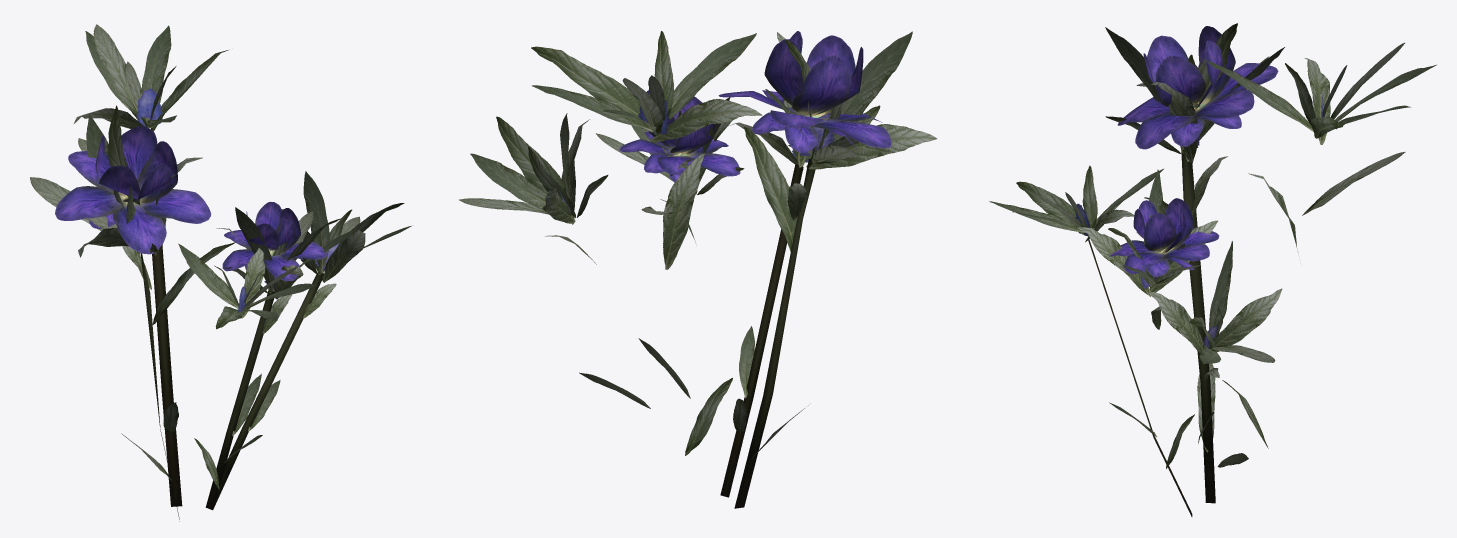
File: leafplant12_lod1.fbx
3 views of the same model, side by side, from view 1: azimuth 30°, elevation 25°; view 2: azimuth 150°, elevation 25°; view 3: azimuth 270°, elevation 25° (orthographic). The views are drawn at different scales.
Visible parts, largest first — view 1: Mesh Object; view 2: Mesh Object; view 3: Mesh Object.
Boxes of the visible parts, box(x1,y1,x2,y2) form: Mesh Object: box(30, 24, 411, 521); Mesh Object: box(459, 31, 936, 508); Mesh Object: box(989, 23, 1436, 516).
Bounding box in the file's own units: 1.26 × 1.38 × 1.21.
